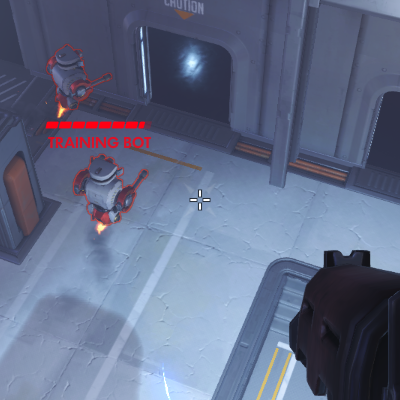hpbar: (45, 121, 152, 129)
